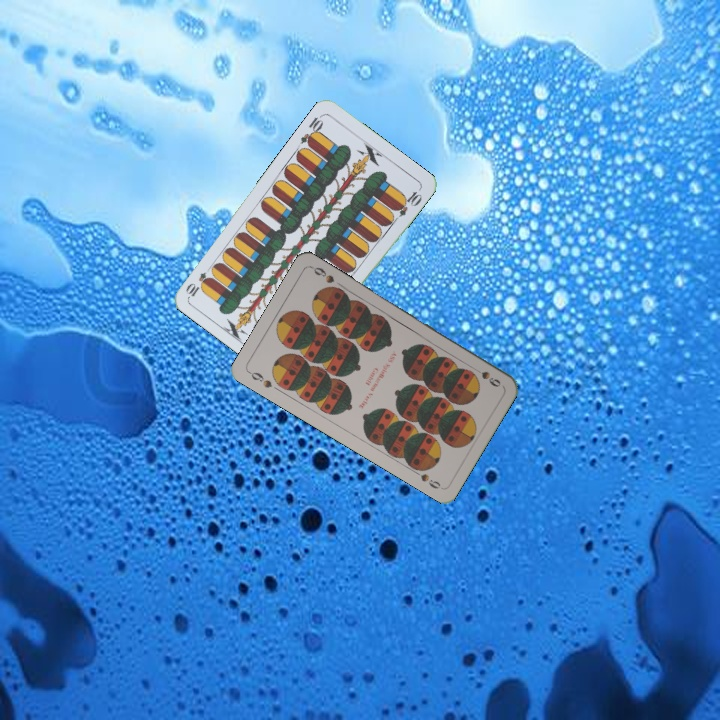E10: (296, 111, 326, 149)
S9: (468, 362, 503, 390), (244, 368, 275, 391)
